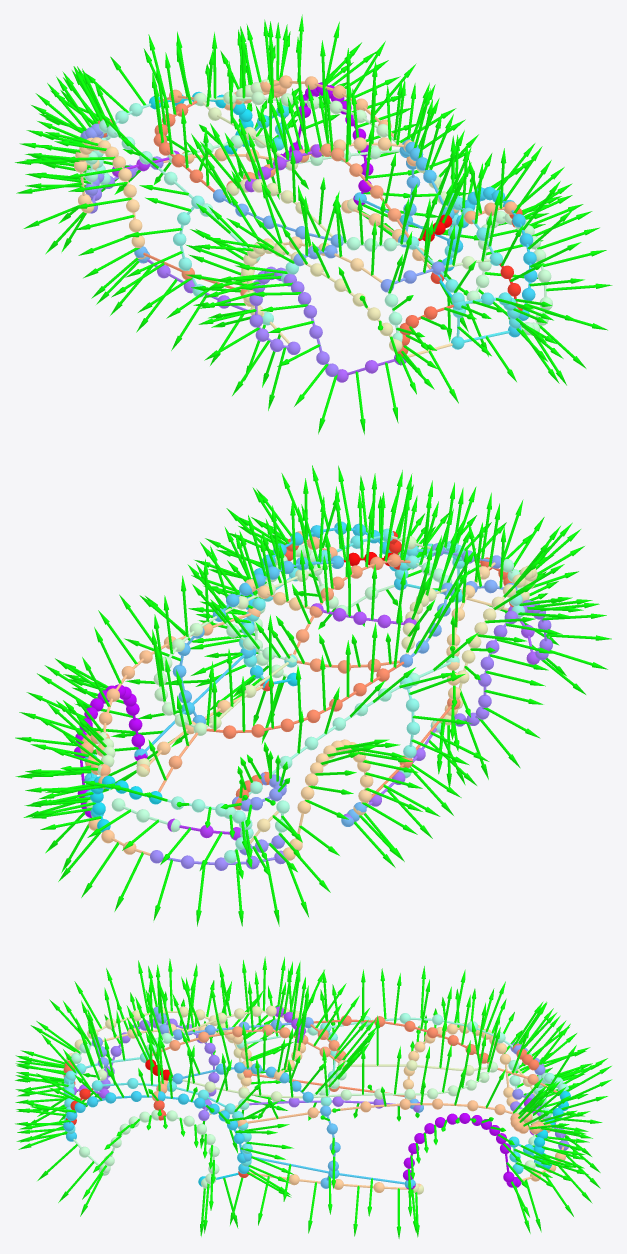
The model's file is ils_roadster.gltf.
3 renders of one model, top to bottom at view 1: azimuth 30°, elevation 25°; view 2: azimuth 150°, elevation 25°; view 3: azimuth 270°, elevation 25°, orthographic. The views are drawn at different scales.
Size of the model in its own units: 0.5904 by 0.4214 by 1.07.
